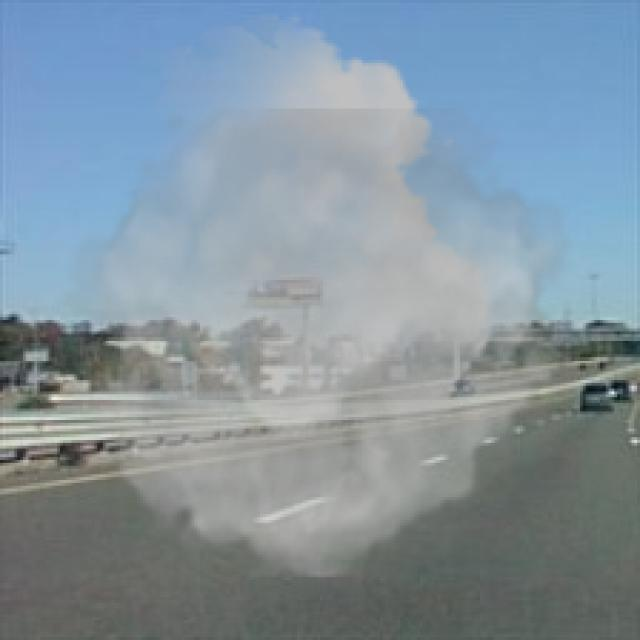smoke: (54, 14, 589, 577)
